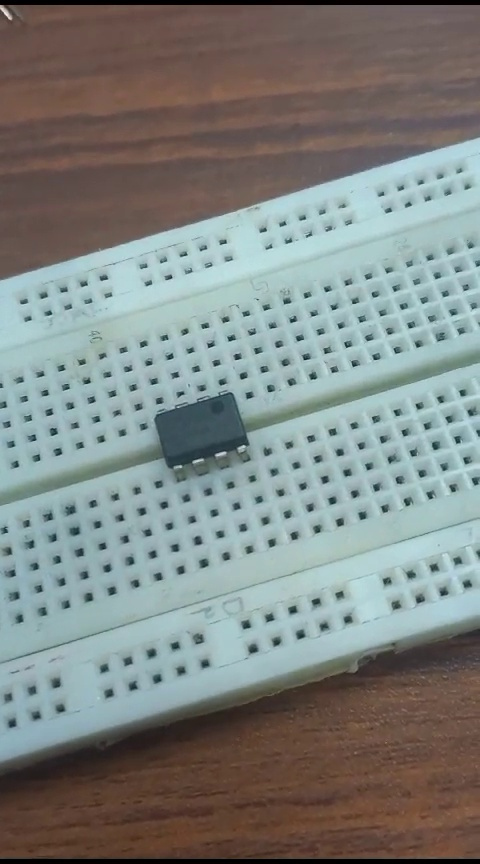IC: (131, 385, 259, 471)
